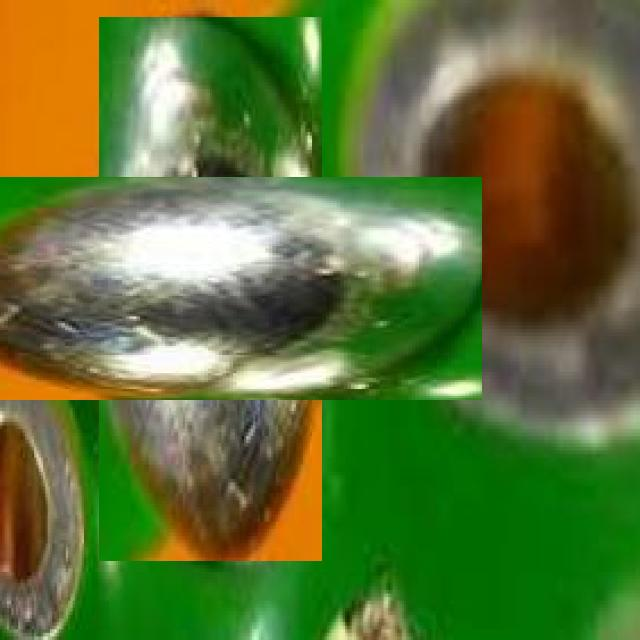redundant: (0, 178, 482, 399)
